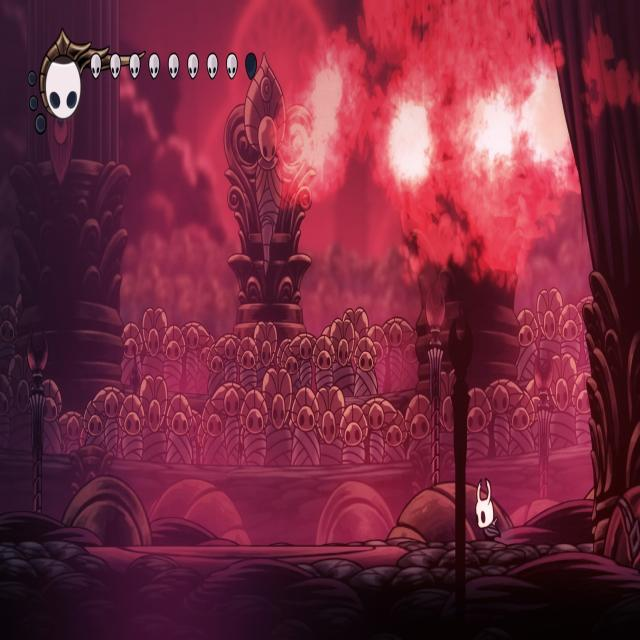Fireball: (278, 28, 370, 204), (508, 40, 582, 193), (449, 60, 523, 194), (376, 69, 448, 205)
Player: (473, 473, 504, 544)
